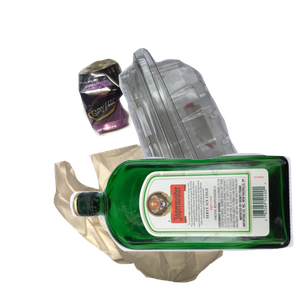glass: (67, 150, 300, 300)
metal: (75, 56, 198, 185)
plastic: (71, 45, 300, 225)
trash: (51, 142, 278, 300)
